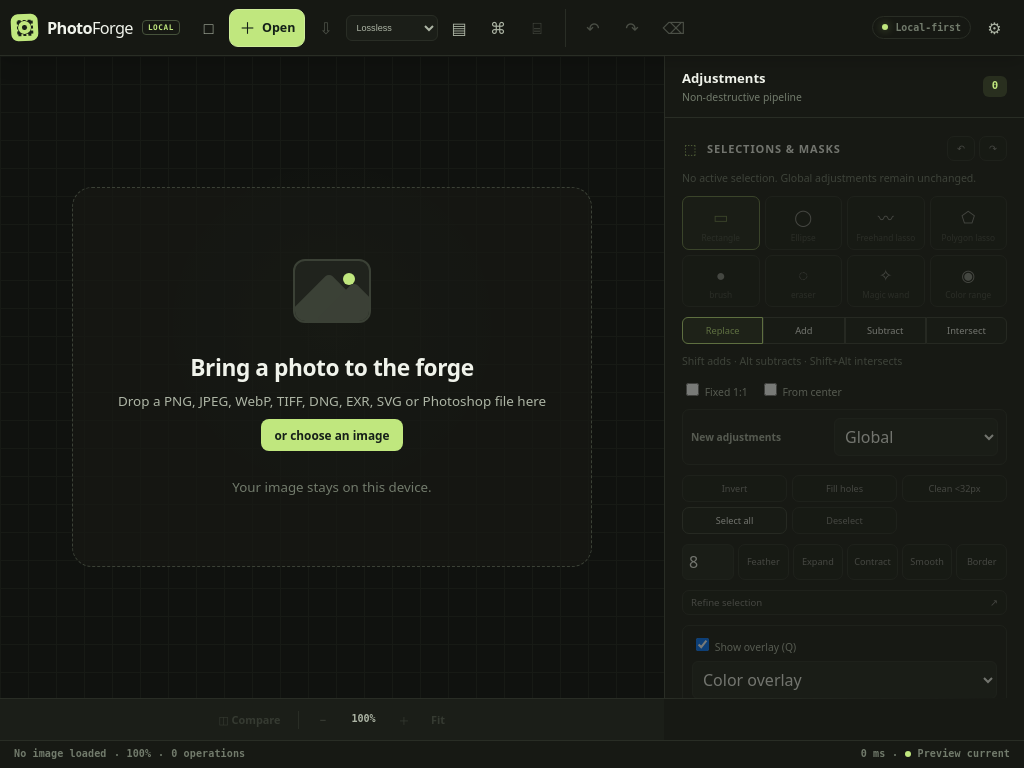
Test: opening a TIFF › shows the reason when the file cannot be read, and opens nothing
Step 1. Click the button "＋ Open" → click(267, 28), box [229,8,305,46]
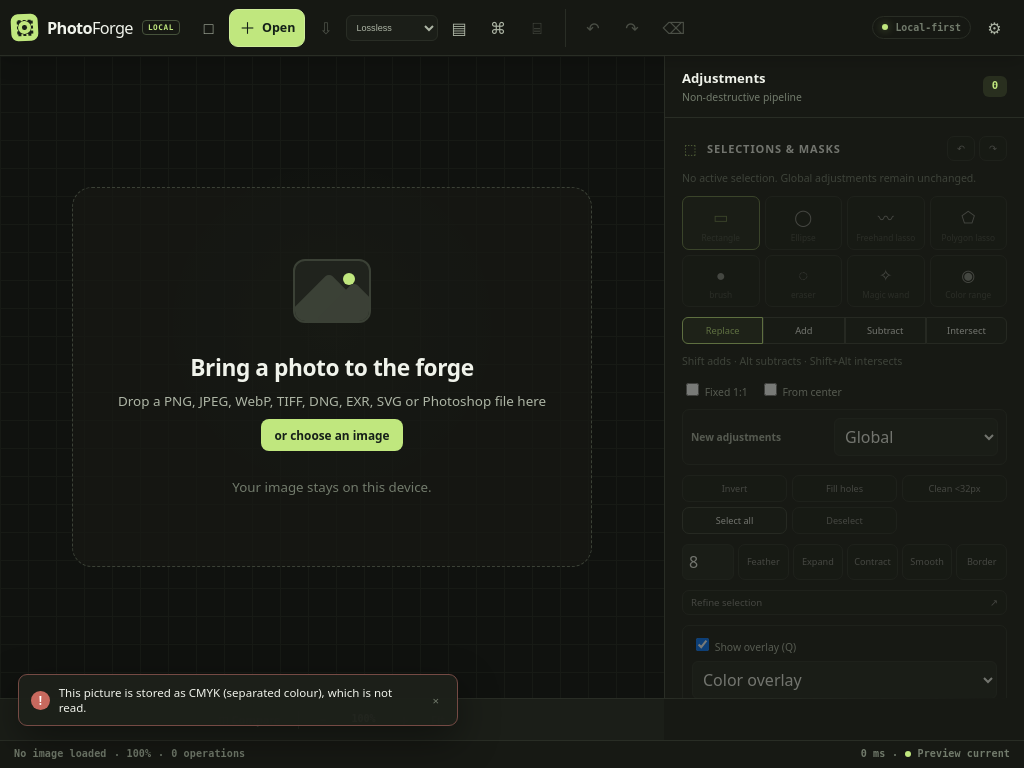
Check: the text "! This picture is stored as CMYK (separated colour), which is not read. ×" is shown, box [18,674,458,726]
